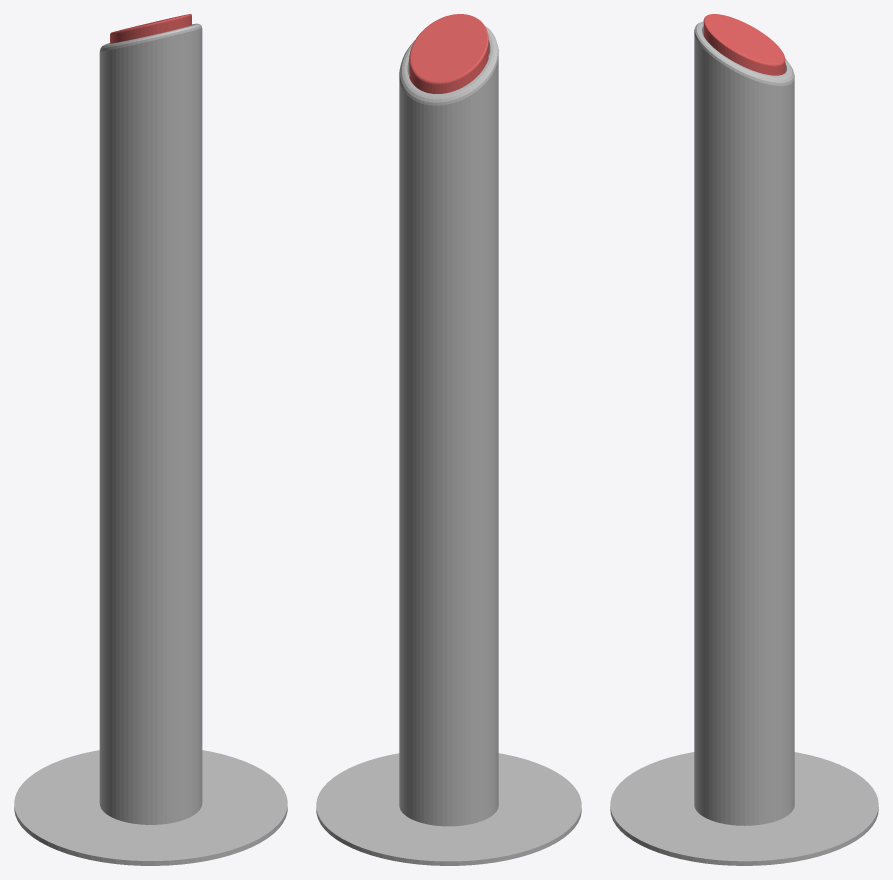
The model's file is ButtonStand.fbx.
The picture shows the model from 3 angles, left to right: view 1: azimuth 30°, elevation 25°; view 2: azimuth 150°, elevation 25°; view 3: azimuth 270°, elevation 25°; orthographic projection. The views are drawn at different scales.
Visible parts, largest first — view 1: Base, Button; view 2: Base, Button; view 3: Base, Button.
Part boxes in pixels (bbox=[...]): Base: bbox=[14, 23, 287, 865]; Button: bbox=[110, 14, 191, 43]; Base: bbox=[316, 26, 581, 865]; Button: bbox=[409, 14, 488, 93]; Base: bbox=[610, 21, 878, 865]; Button: bbox=[703, 14, 785, 75].
Size of the model in its own units: 0.4004 by 0.4004 by 1.3.
